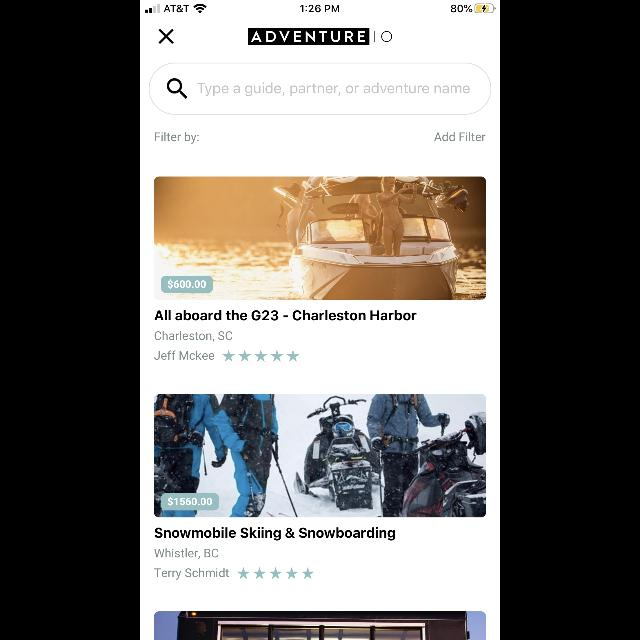icon: (238, 567, 314, 579), (222, 351, 300, 362), (166, 79, 188, 99), (158, 30, 174, 44)
image: (154, 394, 486, 518), (154, 176, 486, 300), (154, 612, 486, 640), (248, 28, 392, 46)
input: (149, 63, 491, 115)
text: (198, 82, 470, 96), (155, 527, 395, 541), (155, 310, 417, 320), (154, 568, 230, 580), (156, 331, 232, 342), (155, 548, 219, 560), (155, 350, 215, 360), (155, 132, 199, 144), (434, 132, 486, 142)
textbutton: (161, 494, 219, 511), (161, 276, 213, 292)
uppertaskbar: (140, 0, 500, 14)
